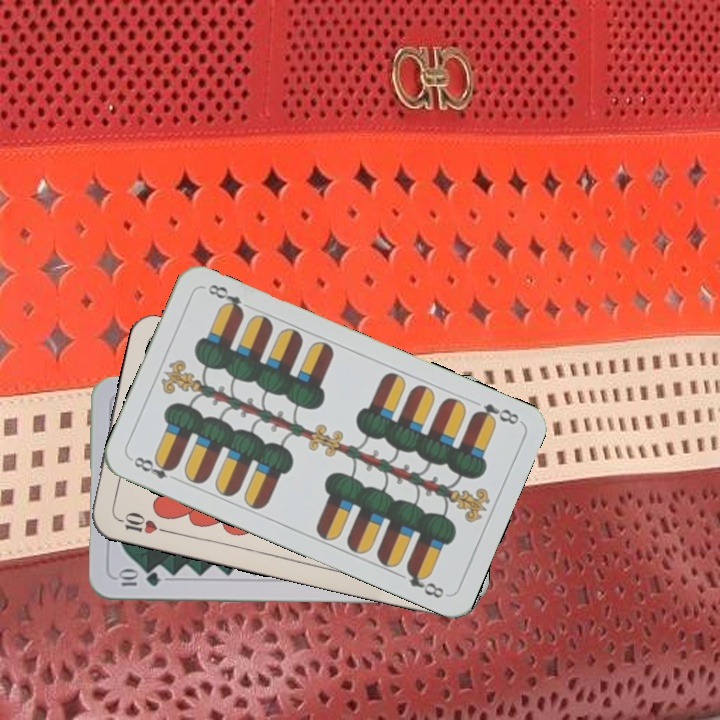E8: (126, 452, 179, 482), (468, 399, 522, 427)
G10: (114, 569, 163, 589)
H10: (112, 508, 171, 537)
